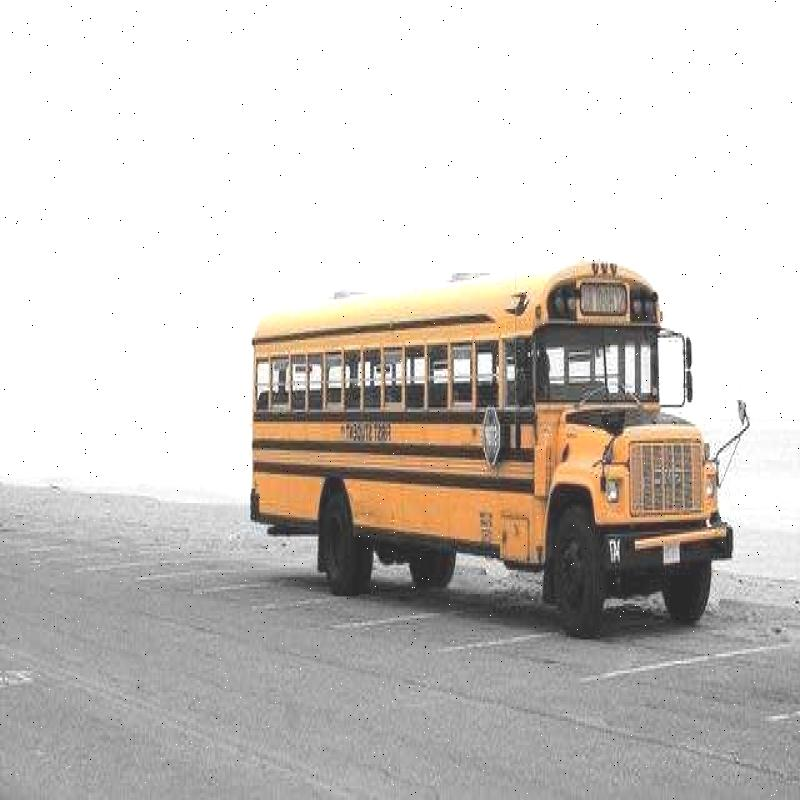bus: (247, 248, 734, 613)
